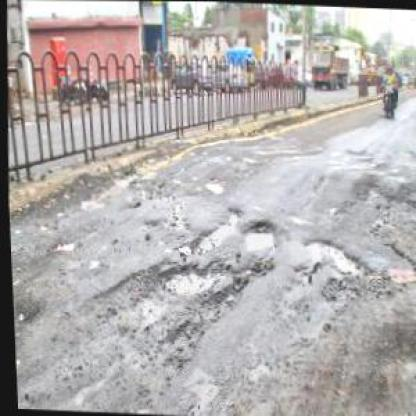pothole: (88, 255, 250, 326), (298, 236, 368, 280), (191, 202, 243, 252), (238, 216, 278, 255), (133, 184, 173, 204), (384, 261, 415, 283), (202, 178, 222, 196)
